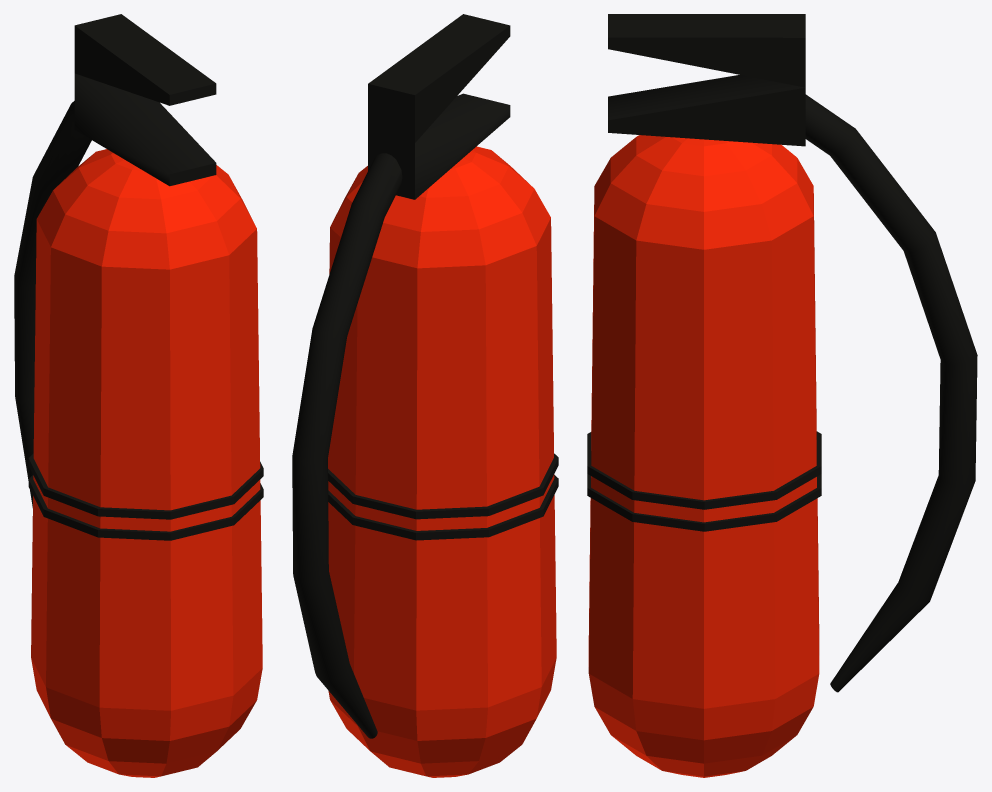
File: Fire Extinguisher.fbx
3 renders of one model, left to right at view 1: azimuth 30°, elevation 25°; view 2: azimuth 150°, elevation 25°; view 3: azimuth 270°, elevation 25°, orthographic. The views are drawn at different scales.
Visible parts, largest first — view 1: pCube6; view 2: pCube6; view 3: pCube6.
Part boxes in pixels (x1=…): pCube6: x1=14, y1=14, x2=263, y2=777; pCube6: x1=292, y1=14, x2=558, y2=777; pCube6: x1=587, y1=14, x2=977, y2=777.
Bounding box in the file's own units: 81.77 × 272 × 130.
